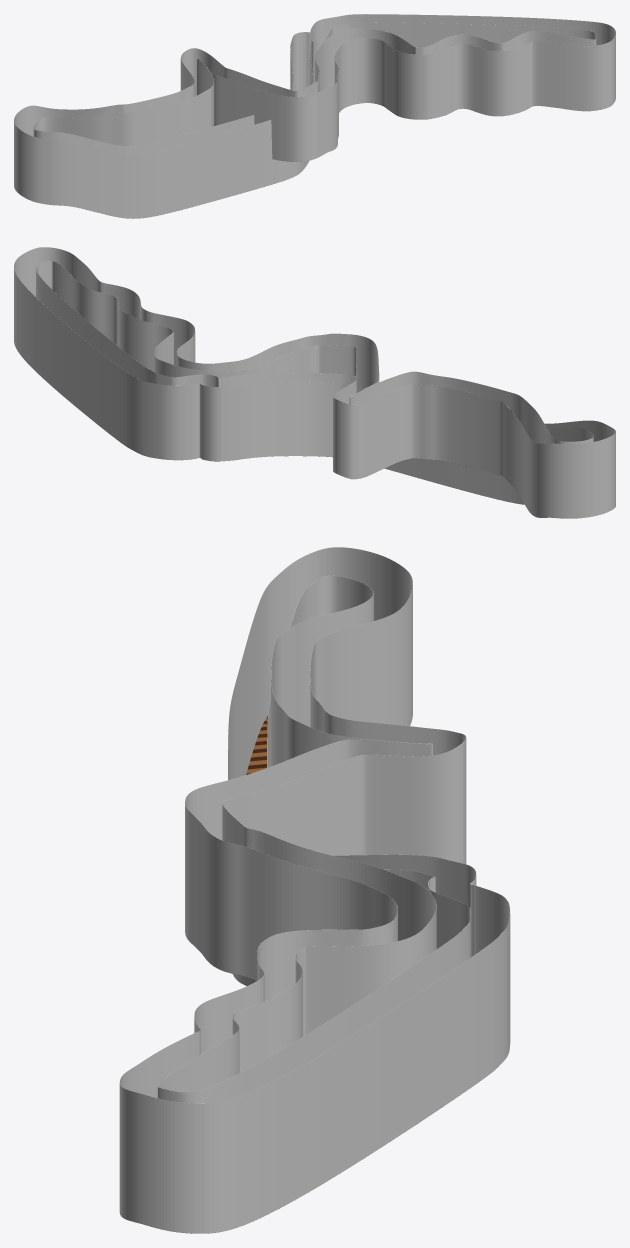
The model's file is circ02__2_highwall.FBX.
3 views of the same model, one above another, from view 1: azimuth 30°, elevation 25°; view 2: azimuth 150°, elevation 25°; view 3: azimuth 270°, elevation 25° (orthographic). The views are drawn at different scales.
Visible parts, largest first — view 1: new2_wall; view 2: new2_wall; view 3: new2_wall.
Boxes of the visible parts, <box> form: new2_wall: <box>14,14,615,218</box>; new2_wall: <box>14,247,615,518</box>; new2_wall: <box>119,547,510,1233</box>.
Size of the model in its own units: 76310 by 13308 by 23208.
Materials: 1 (1 with a texture image).
